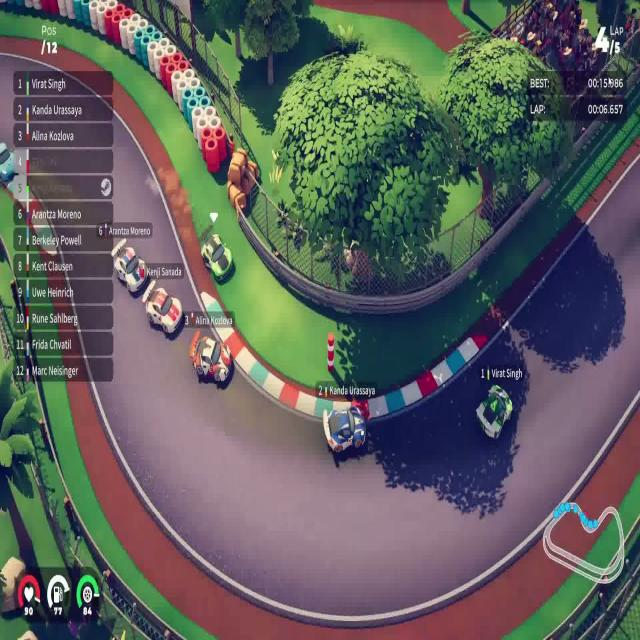car: (189, 328, 232, 385), (141, 279, 183, 336), (322, 404, 367, 456), (475, 383, 513, 441), (111, 238, 148, 295), (200, 232, 233, 282)
